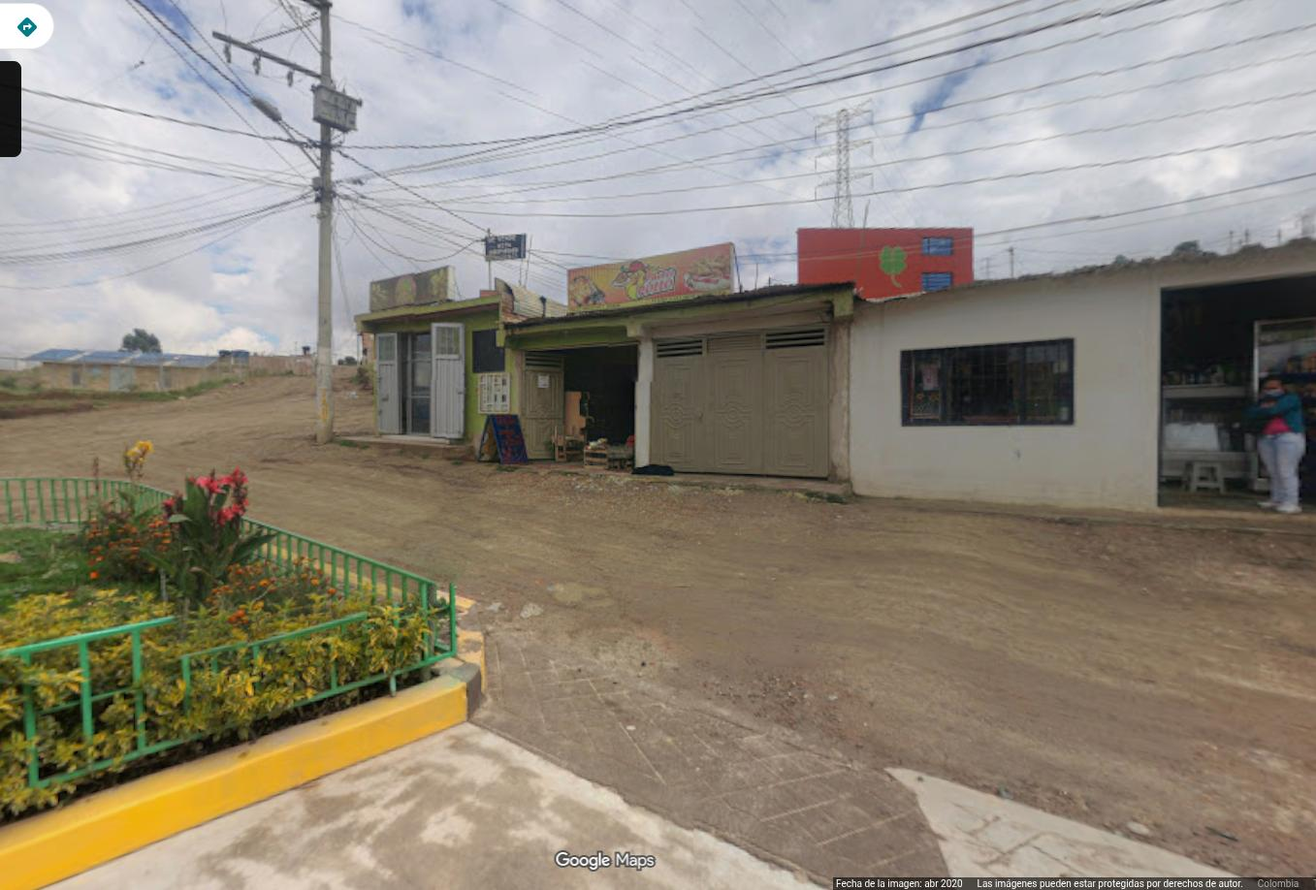casa: (851, 239, 1315, 509), (500, 284, 857, 483), (355, 267, 539, 443)
poste: (212, 0, 361, 443)
